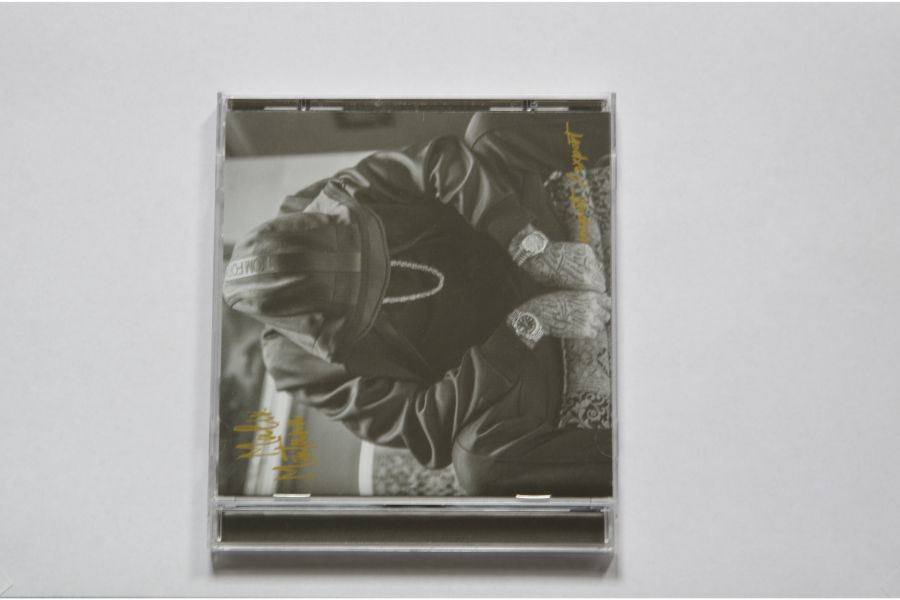album: (207, 89, 620, 557)
